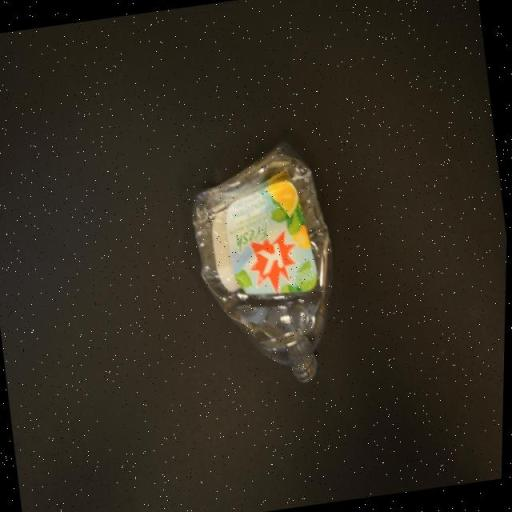plastic: (180, 138, 350, 394)
